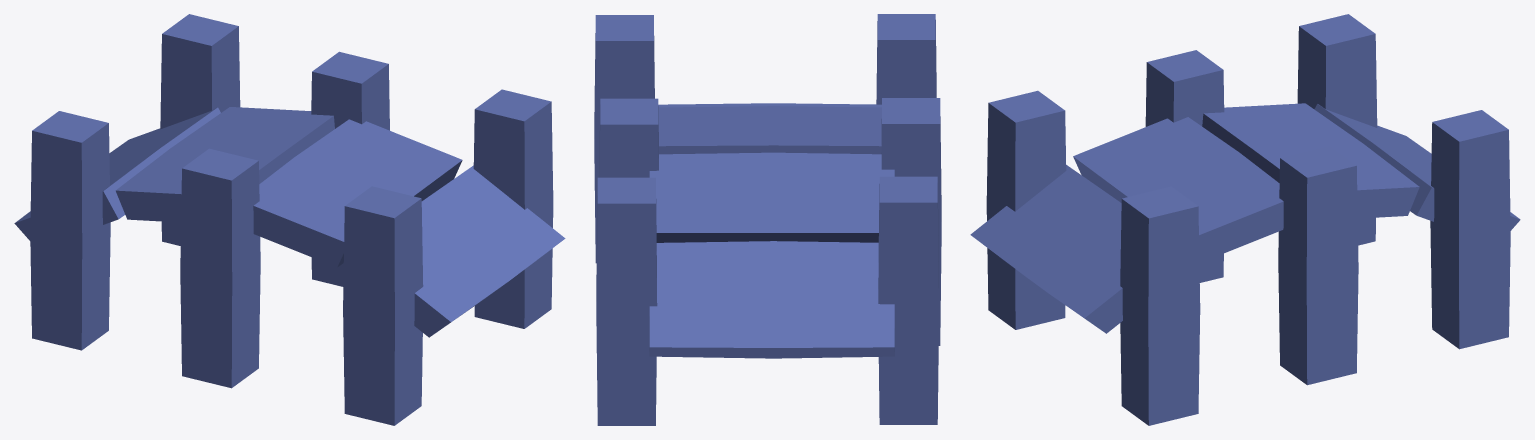
Rendered from tile_bridge_outline.fbx.
3 views of the same model, side by side, from view 1: azimuth 30°, elevation 25°; view 2: azimuth 150°, elevation 25°; view 3: azimuth 270°, elevation 25° (orthographic). The views are drawn at different scales.
Parts seen in each view (by area): view 1: Cylinder002; view 2: Cylinder002; view 3: Cylinder002.
Part boxes in pixels (<box>): Cylinder002: <box>14,14,565,425</box>; Cylinder002: <box>594,14,941,425</box>; Cylinder002: <box>970,14,1520,425</box>.
Bounding box in the file's own units: 3.81 × 4.3 × 1.79.
Materials: 1 (1 with a texture image).
